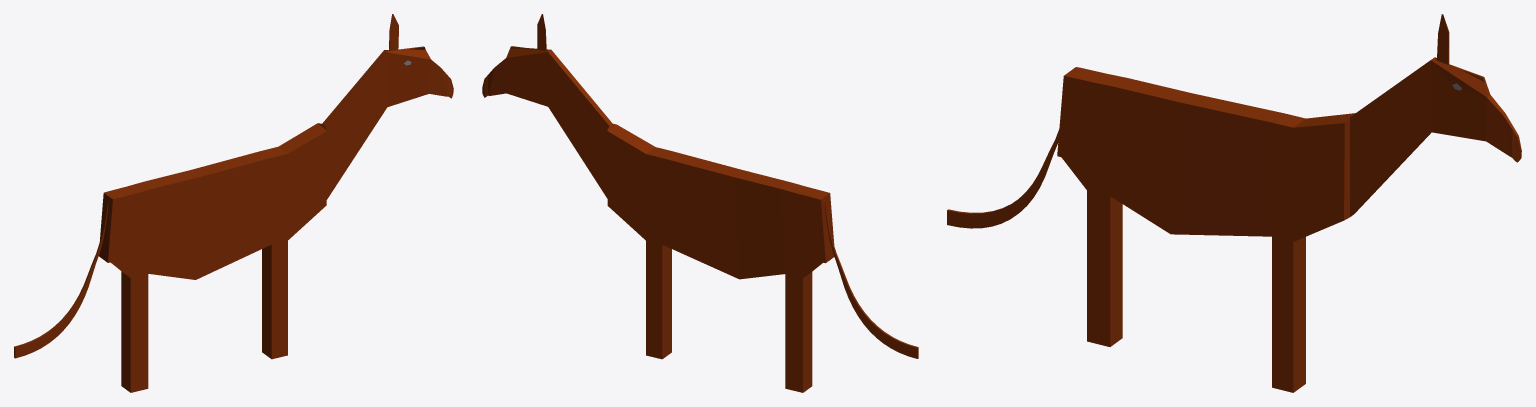
The model's file is Åsna.glb.
The picture shows the model from 3 angles, left to right: view 1: azimuth 30°, elevation 25°; view 2: azimuth 150°, elevation 25°; view 3: azimuth 330°, elevation 25°; orthographic projection. The views are drawn at different scales.
Parts seen in each view (by area): view 1: Asna; view 2: Asna; view 3: Asna.
Boxes of the visible parts, left/top/right/bottom form: Asna: left=14, top=14, right=453, bottom=392; Asna: left=482, top=14, right=918, bottom=392; Asna: left=947, top=14, right=1521, bottom=392.
Bounding box in the file's own units: 6.68 × 4.55 × 0.2686.
Materials: 1 (1 with a texture image).
